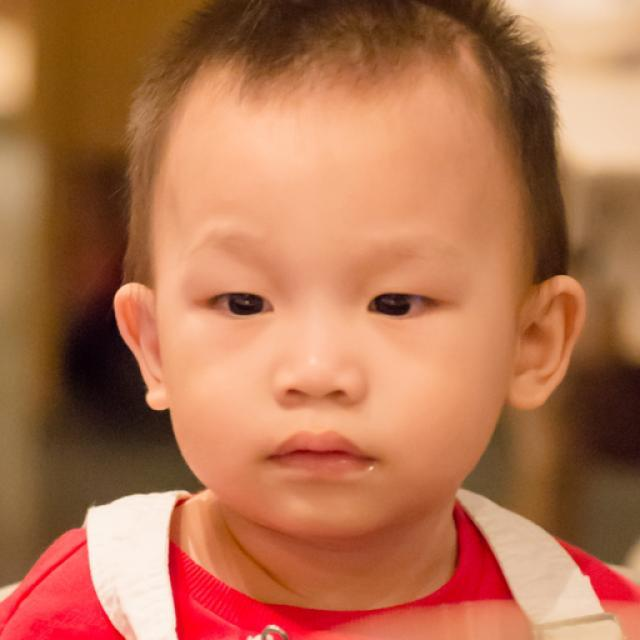neutral: (161, 75, 514, 538)
